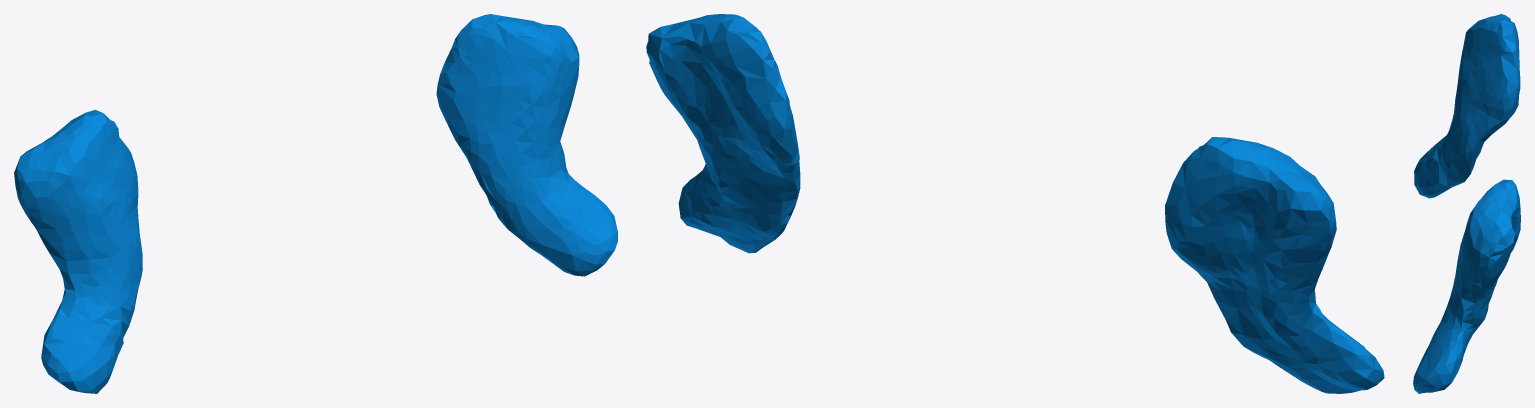
Rendered from 130-MST-medial superior temporal area-('0.0000', '0.6118', '1.0000').obj.
3 views of the same model, side by side, from view 1: azimuth 30°, elevation 25°; view 2: azimuth 150°, elevation 25°; view 3: azimuth 270°, elevation 25° (orthographic). The views are drawn at different scales.
Size of the model in its own units: 217 by 85.32 by 43.29.
